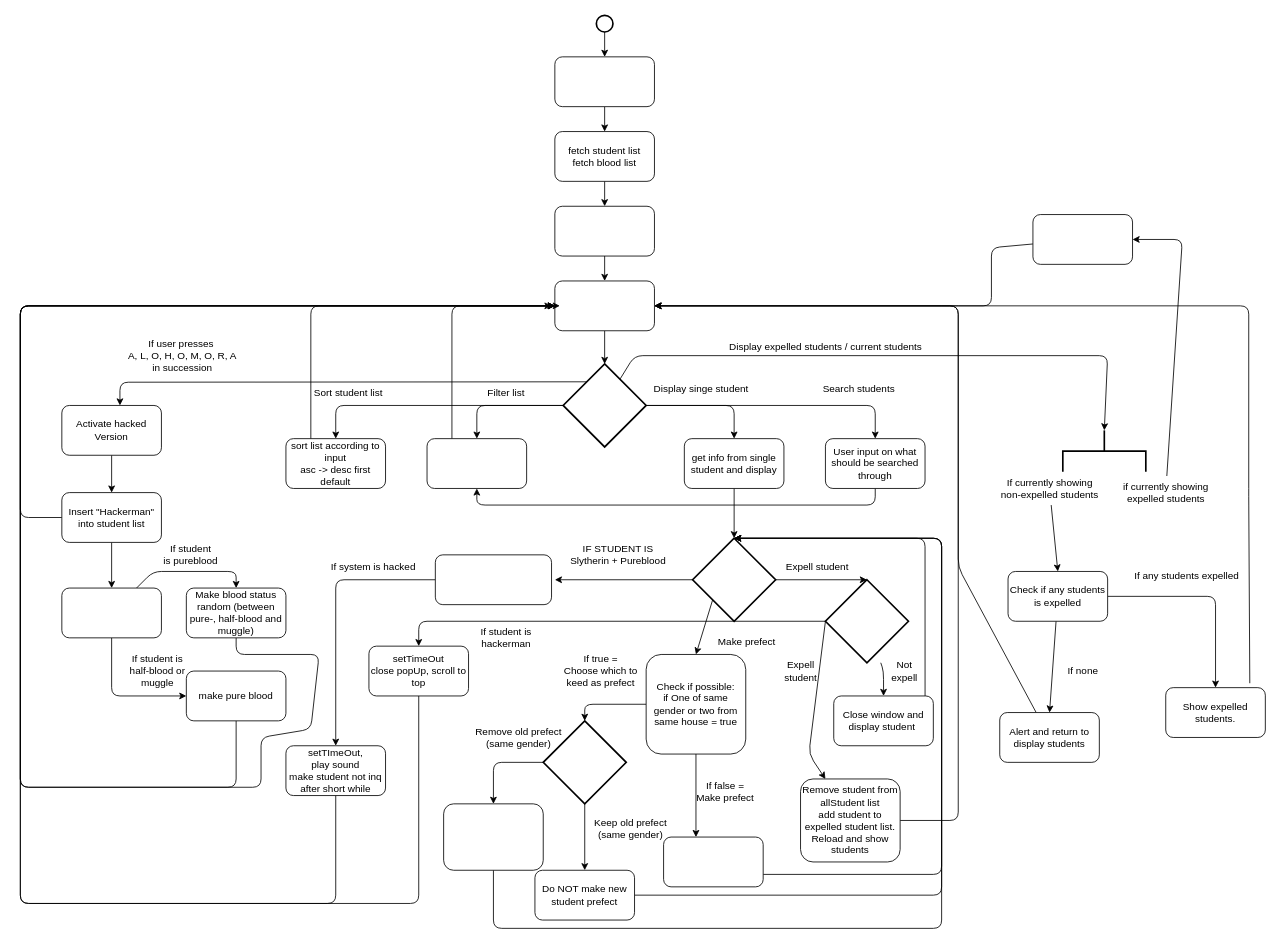
The diagram is 1280 pixels wide and 950 high, and some of its shapes have lost their labels. The shapes that lost their labels are listed below. From the top down, each one's centre as x and y in pixels, then its label:
At pixel 604 81: "Load page add event listeners add variables".
At pixel 604 230: "Process json files and clean up data".
At pixel 1082 239: "load non-explled students array".
At pixel 604 305: "Display data for user".
At pixel 476 463: "filter list according to input asc -> desc first default".
At pixel 493 579: "make student Inquisitorial member".
At pixel 111 612: "Check blood status".
At pixel 493 836: "Set old prefect to false. Make new prefect = true. Show student".
At pixel 713 861: "make prefect = true fore student, toggle switch and fo back to view.".
